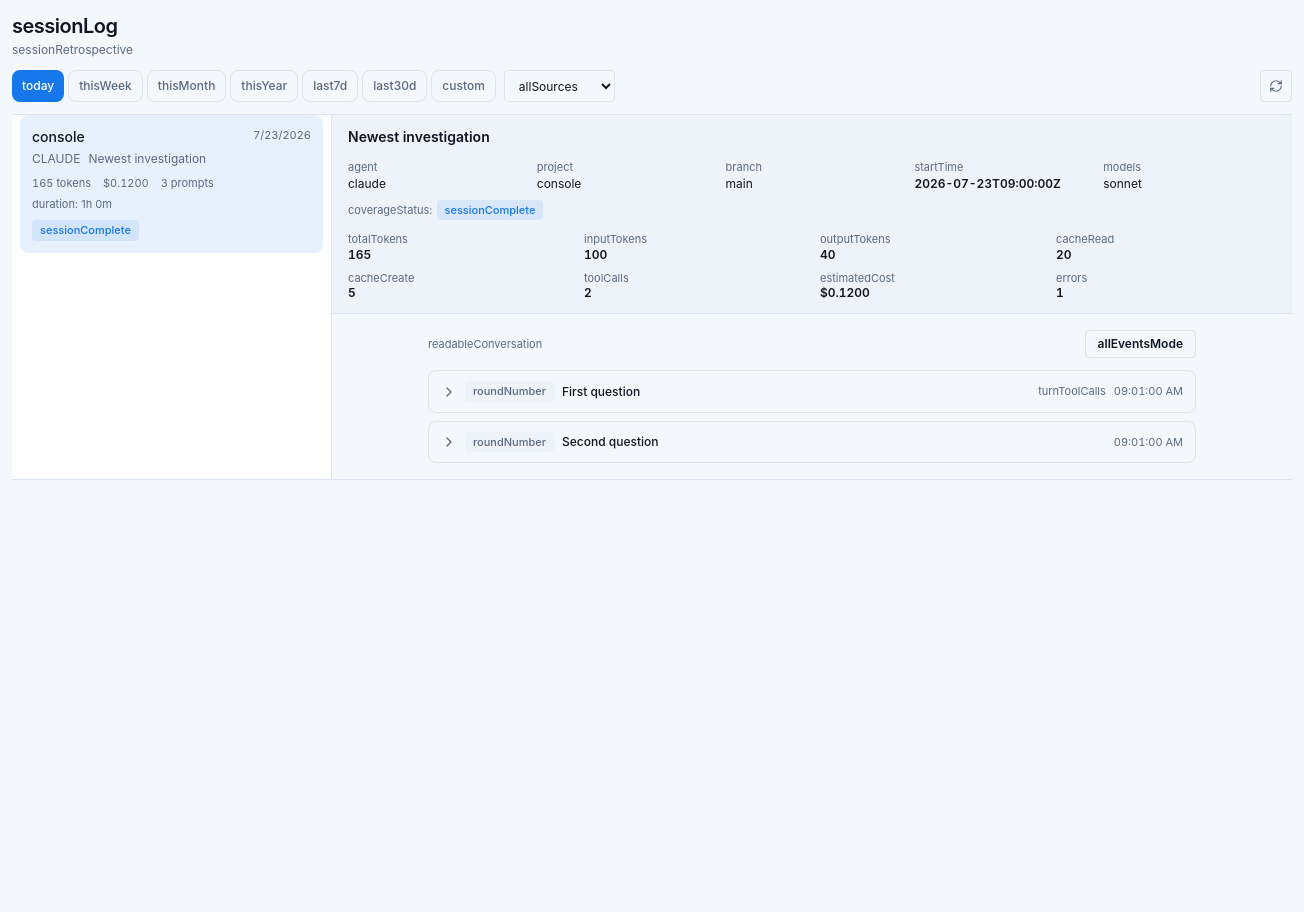
session retrospective center › folds each question together with its answer into one collapsed round
Expected: the heading "roundNumber Second question 09:01:00 AM" is shown, 441,432 -> 1183,452
Expected: the text "First answer" is not shown
Click the heading "roundNumber First question turnToolCalls 09:01:00 AM" at (509, 392), box 441,381 -> 1183,402
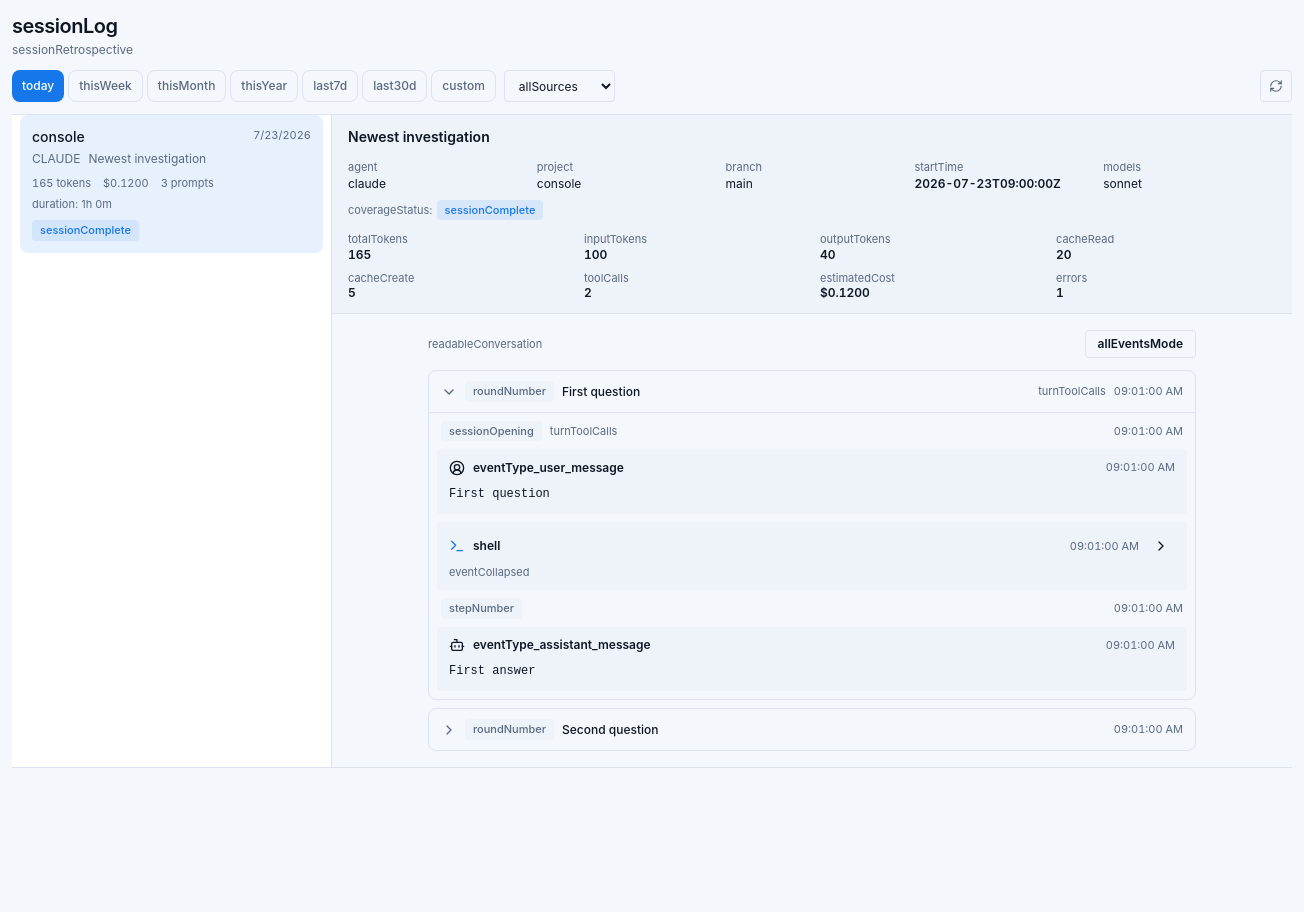
Result: the text "First answer" is shown at 449,664 -> 535,678
